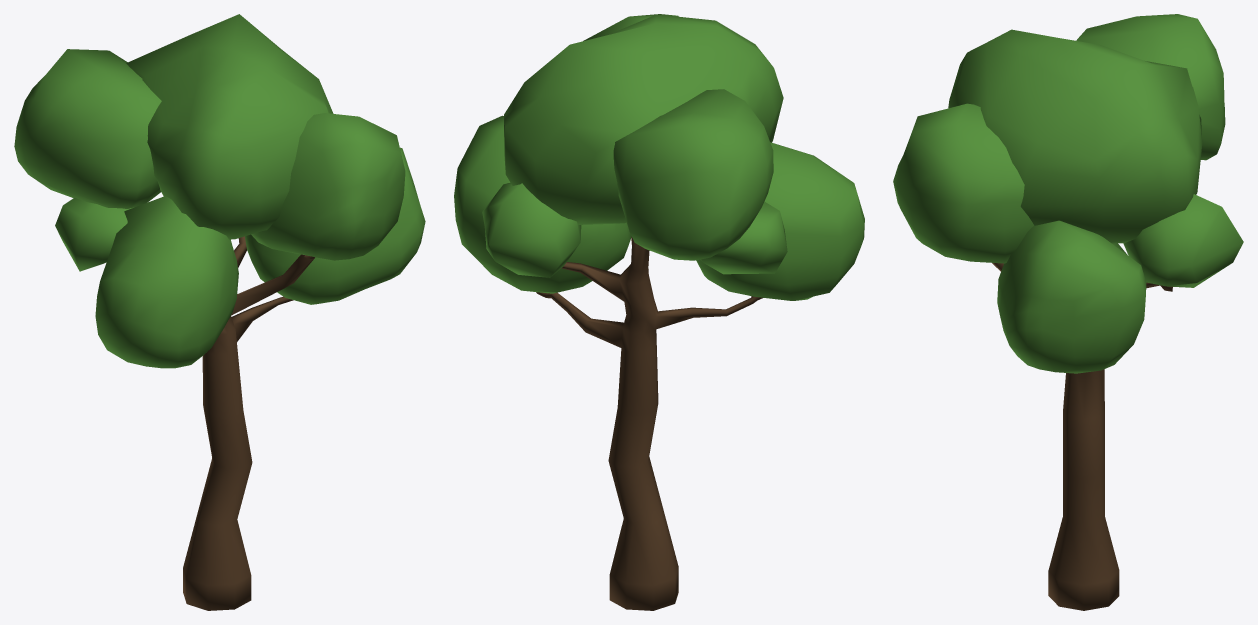
File: tree_2.glb
The picture shows the model from 3 angles, left to right: view 1: azimuth 30°, elevation 25°; view 2: azimuth 150°, elevation 25°; view 3: azimuth 270°, elevation 25°; orthographic projection.
Parts seen in each view (by area): view 1: Leaves, Trunk; view 2: Leaves, Trunk; view 3: Leaves, Trunk.
Part boxes in pixels (x1,y1,x2,y2): Leaves: [14, 14, 425, 368]; Trunk: [183, 236, 314, 610]; Leaves: [454, 14, 864, 300]; Trunk: [536, 237, 762, 610]; Leaves: [893, 14, 1243, 373]; Trunk: [992, 263, 1172, 610].
Bounding box in the file's own units: 18.96 × 29.43 × 16.74.
